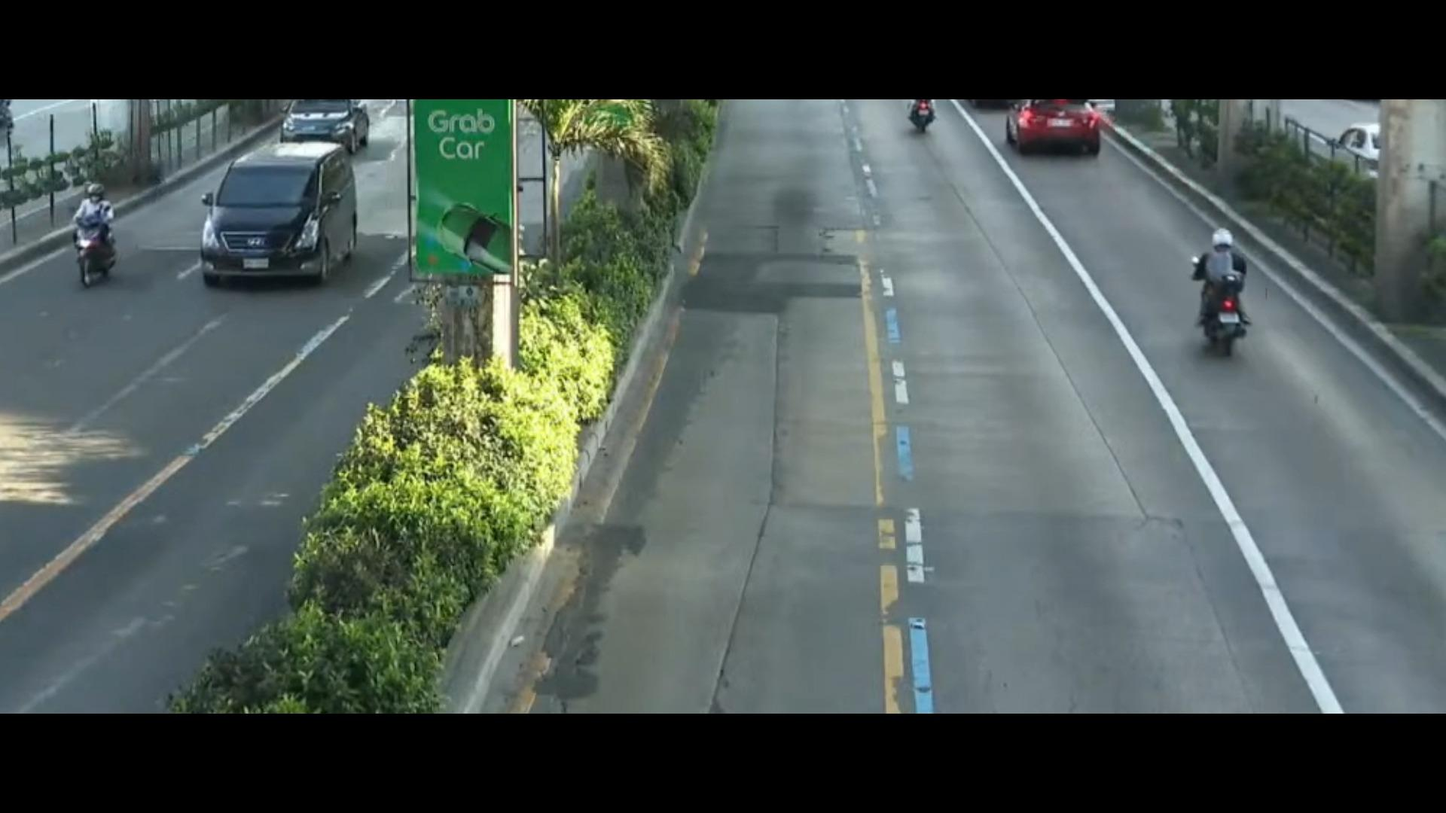Motorcycle: (33, 179, 138, 315), (1168, 217, 1248, 372)
Van: (188, 143, 377, 297)
